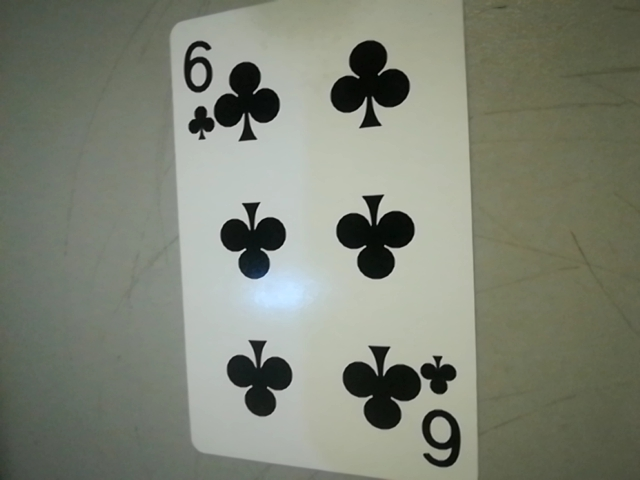mh 6: (412, 353, 474, 476)
